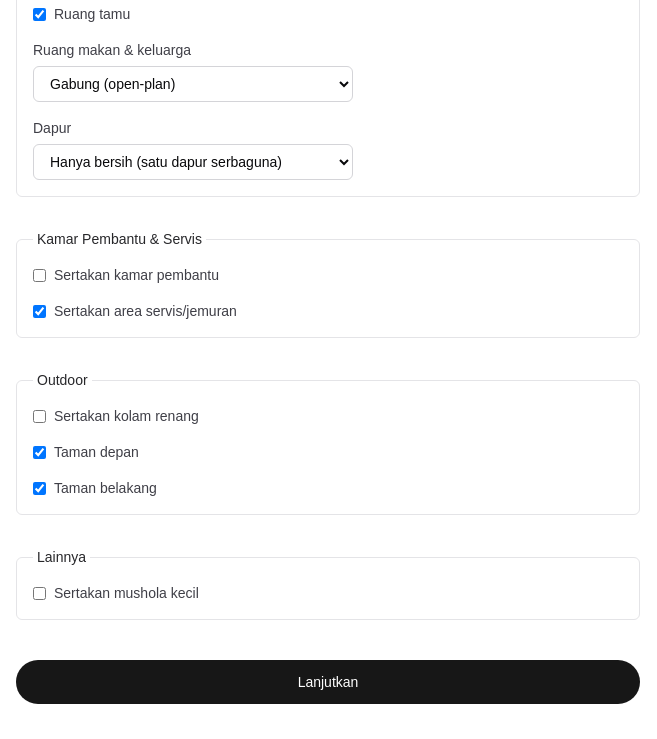
it: ProgramRuangStepPage › shows posisi kolam renang only once kolam renang is checked
The width and height of the screenshot is (657, 739).
(page scrolled)
Expected: the field labelled "posisi kolam renang" is not shown
Step 1. Click the text "Sertakan kolam renang" → [116, 416], box [33,408,199,424]
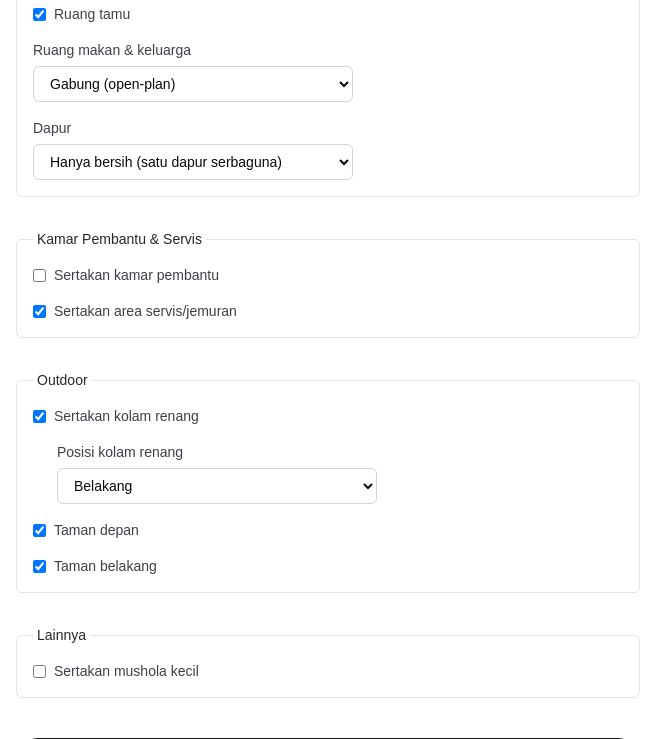
Now the dropdown labelled "Posisi kolam renang" is shown, box [57,468,377,504]
